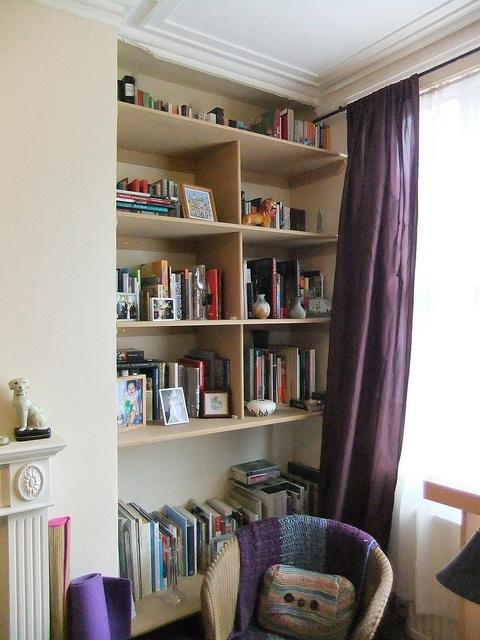Rak: (116, 30, 349, 639)
